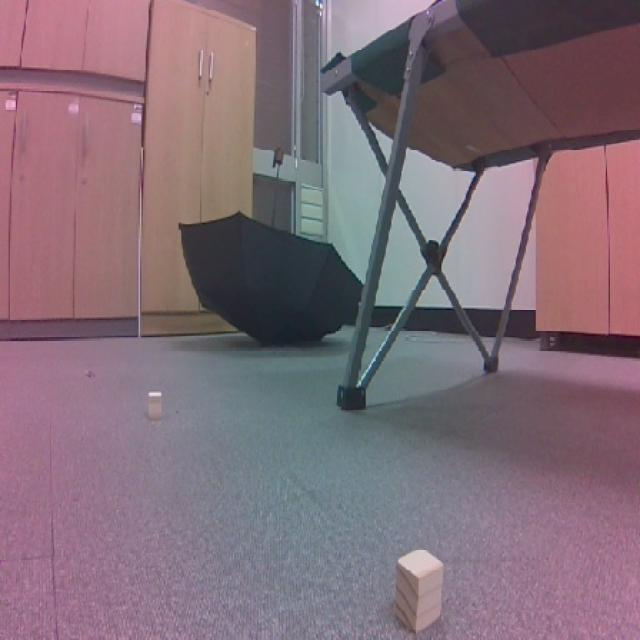obstacle: (384, 545, 459, 640), (143, 383, 172, 426)
